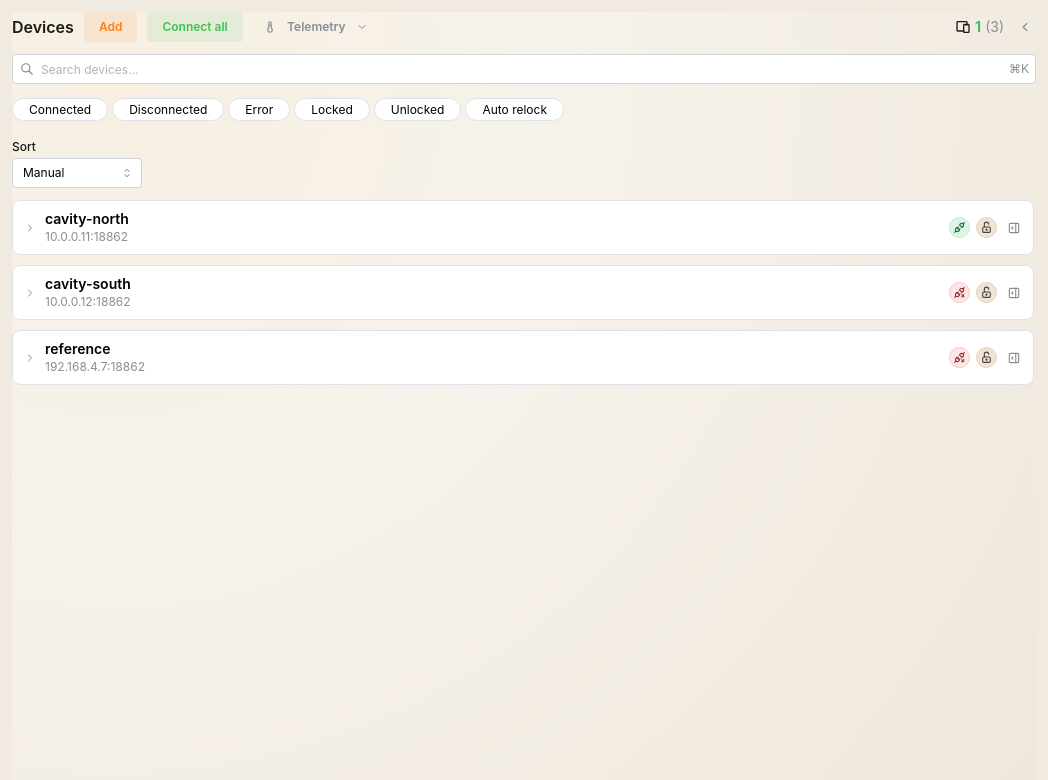
DeviceList search and rows › promotes a typed status word into a chip and clears the text
Type "connected" into the field labelled "Search devices" at (524, 69), box x1=12 y1=54 x2=1036 y2=84
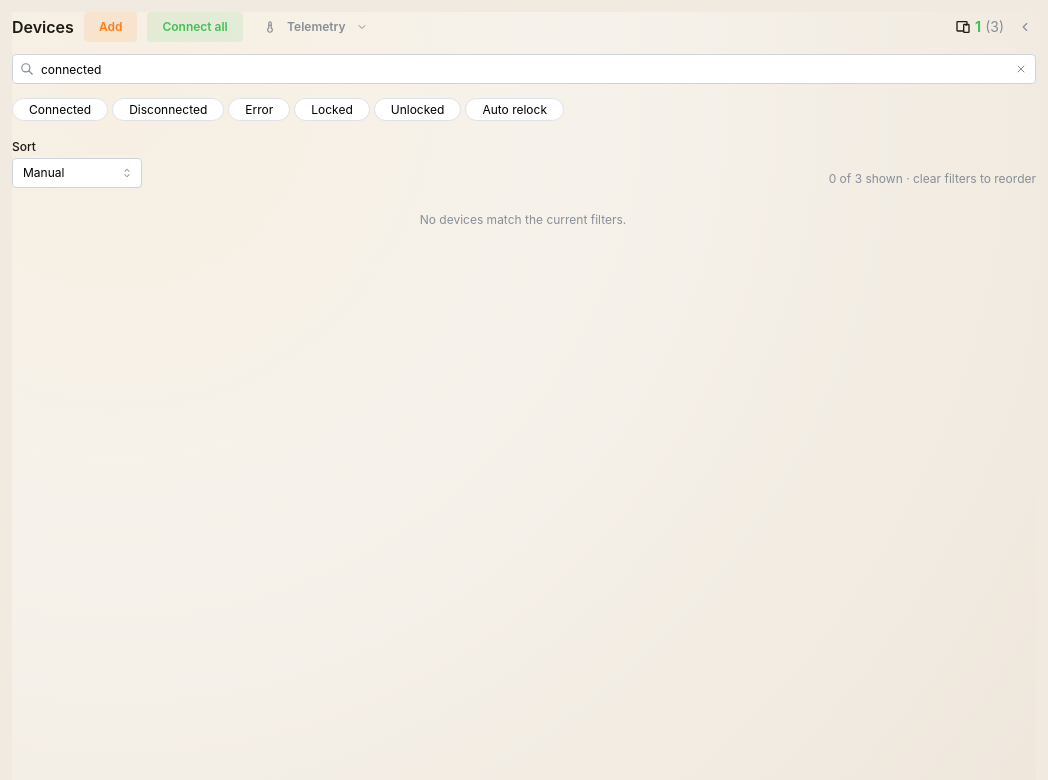
Press Enter in the field named "Search devices", box x1=12 y1=54 x2=1036 y2=84
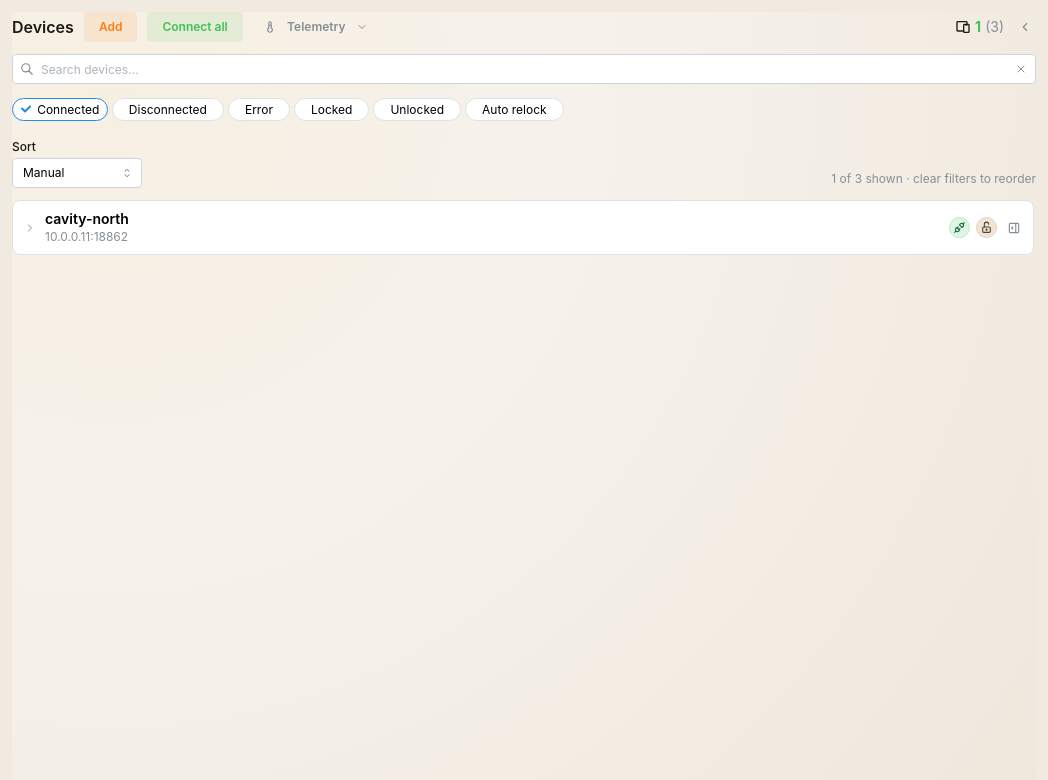
Check: the field labelled "Search devices" is empty, box x1=12 y1=54 x2=1036 y2=84
Check: the checkbox labelled "Connected" is checked, box x1=12 y1=98 x2=108 y2=121
